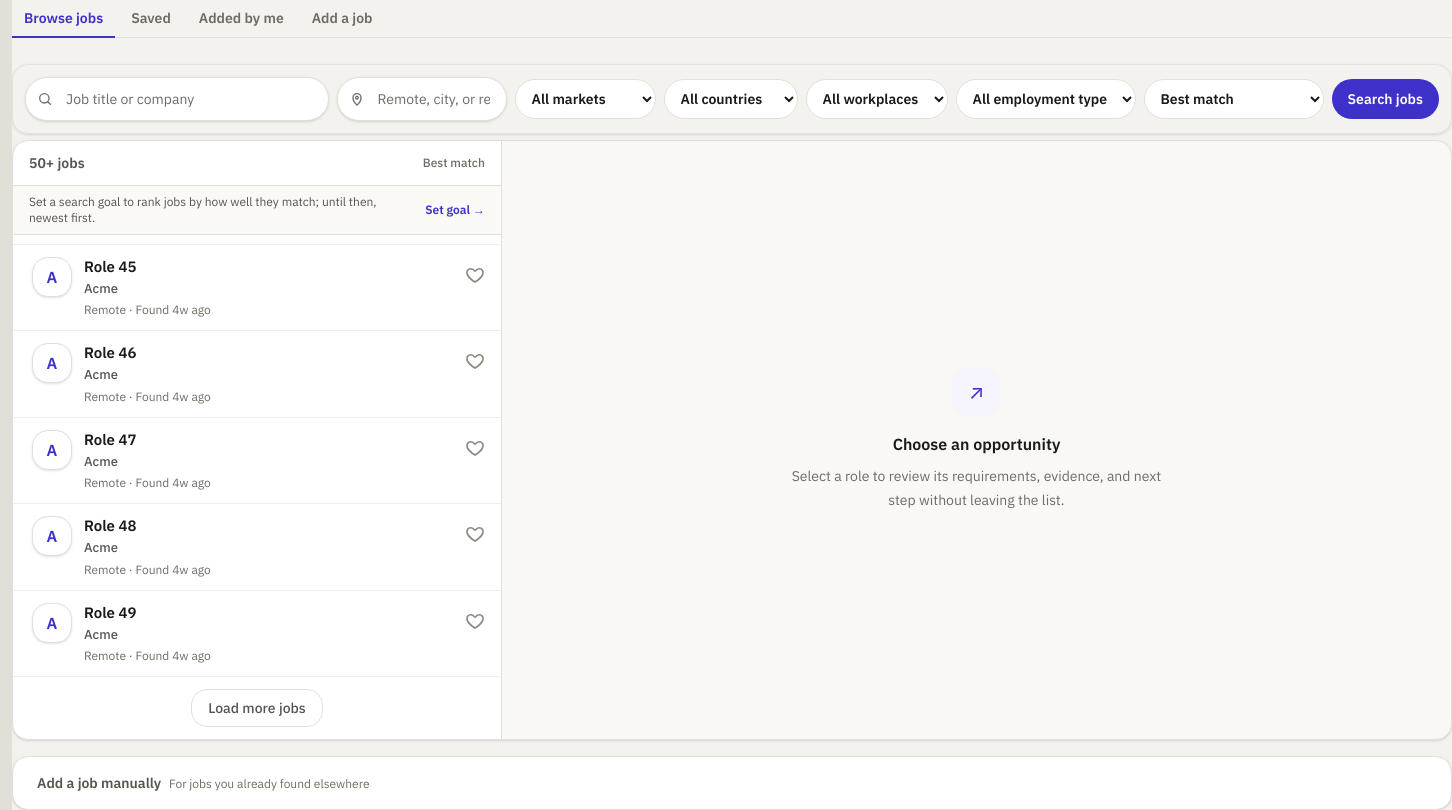
it: DiscoverView › pages through the catalog with Load more
(page scrolled)
Click the button "Load more jobs" at (257, 708), box [191,689,323,727]
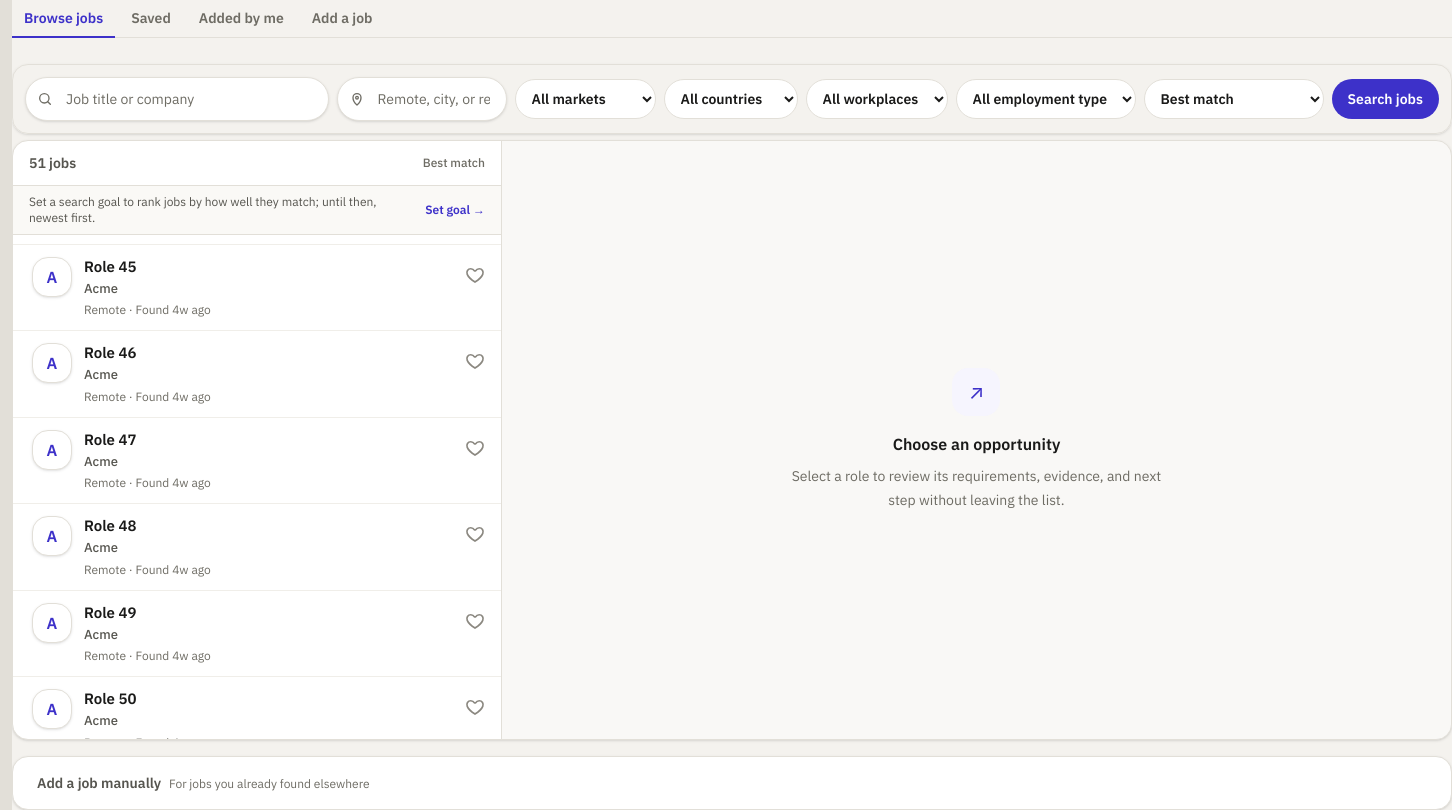
Now the text "Role 50" is shown, box [84,689,136,708]
Now the button "Load more jobs" is gone
